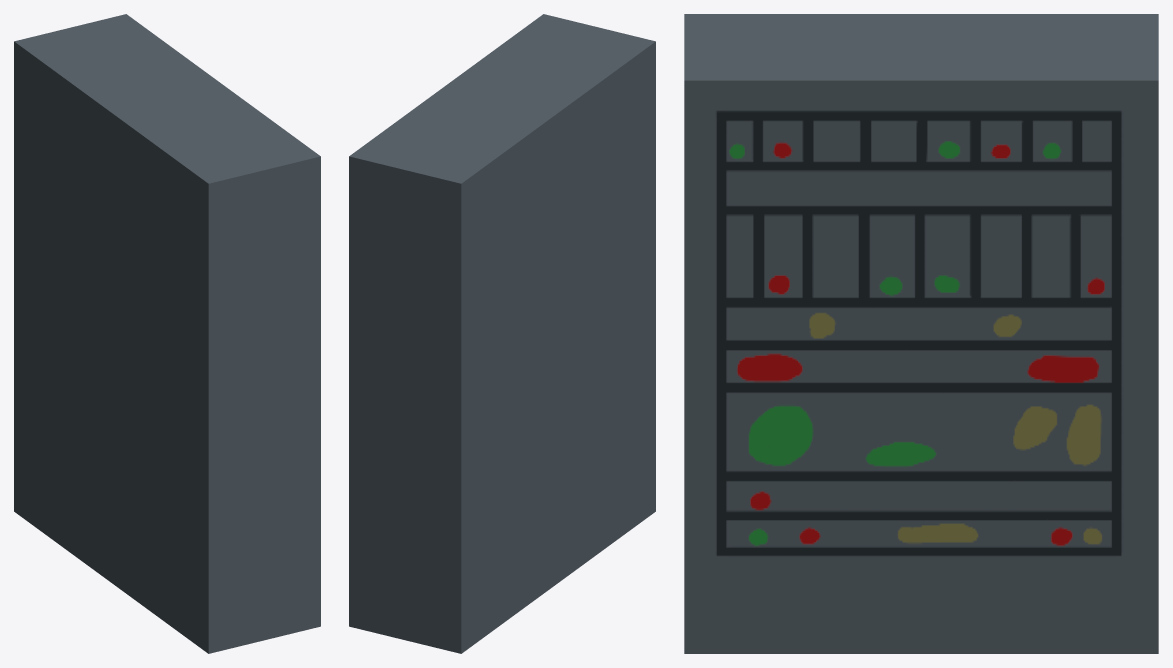
File: Security-server.glb
3 renders of one model, left to right at view 1: azimuth 30°, elevation 25°; view 2: azimuth 150°, elevation 25°; view 3: azimuth 270°, elevation 25°, orthographic. The views are drawn at different scales.
Parts seen in each view (by area): view 1: Cube; view 2: Cube; view 3: Cube.
Part boxes in pixels (x1,y1,x2,y2): Cube: (14,14,320,653); Cube: (349,14,655,653); Cube: (684,14,1158,653).
Size of the model in its own units: 2 by 8 by 6.
Materials: 1 (1 with a texture image).
